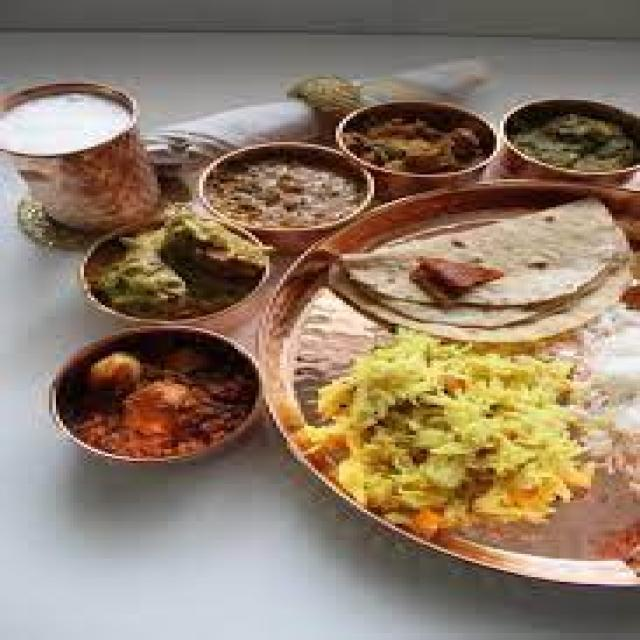curd: (0, 90, 140, 161)
raita: (0, 88, 137, 157)
rice: (310, 319, 614, 531), (505, 105, 639, 179)
sweet: (62, 331, 269, 469), (509, 105, 634, 177)
veg-fry: (195, 148, 377, 244), (346, 104, 495, 179)
